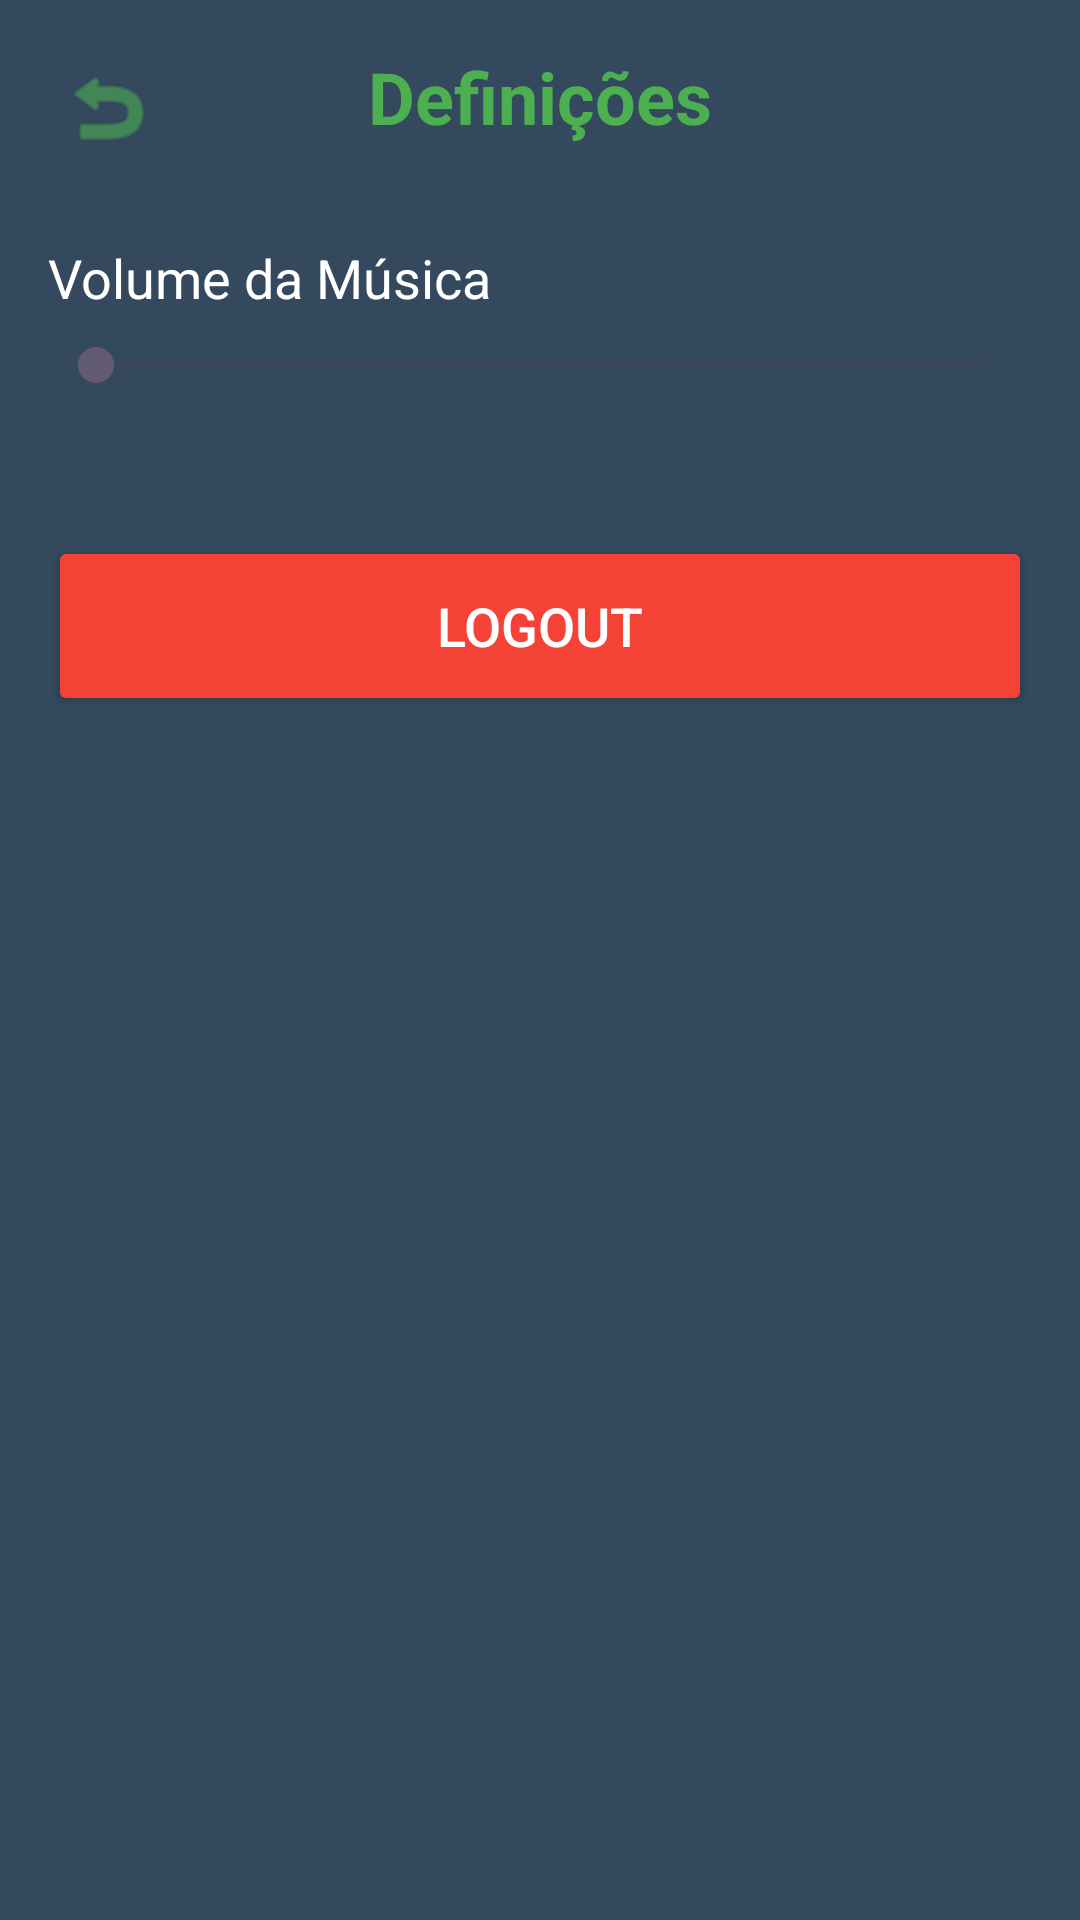

Icons on this 1080 × 1920 Android screen, each with its box as (x1, y1, x2, y2):
Voltar: (75, 78, 143, 140)
